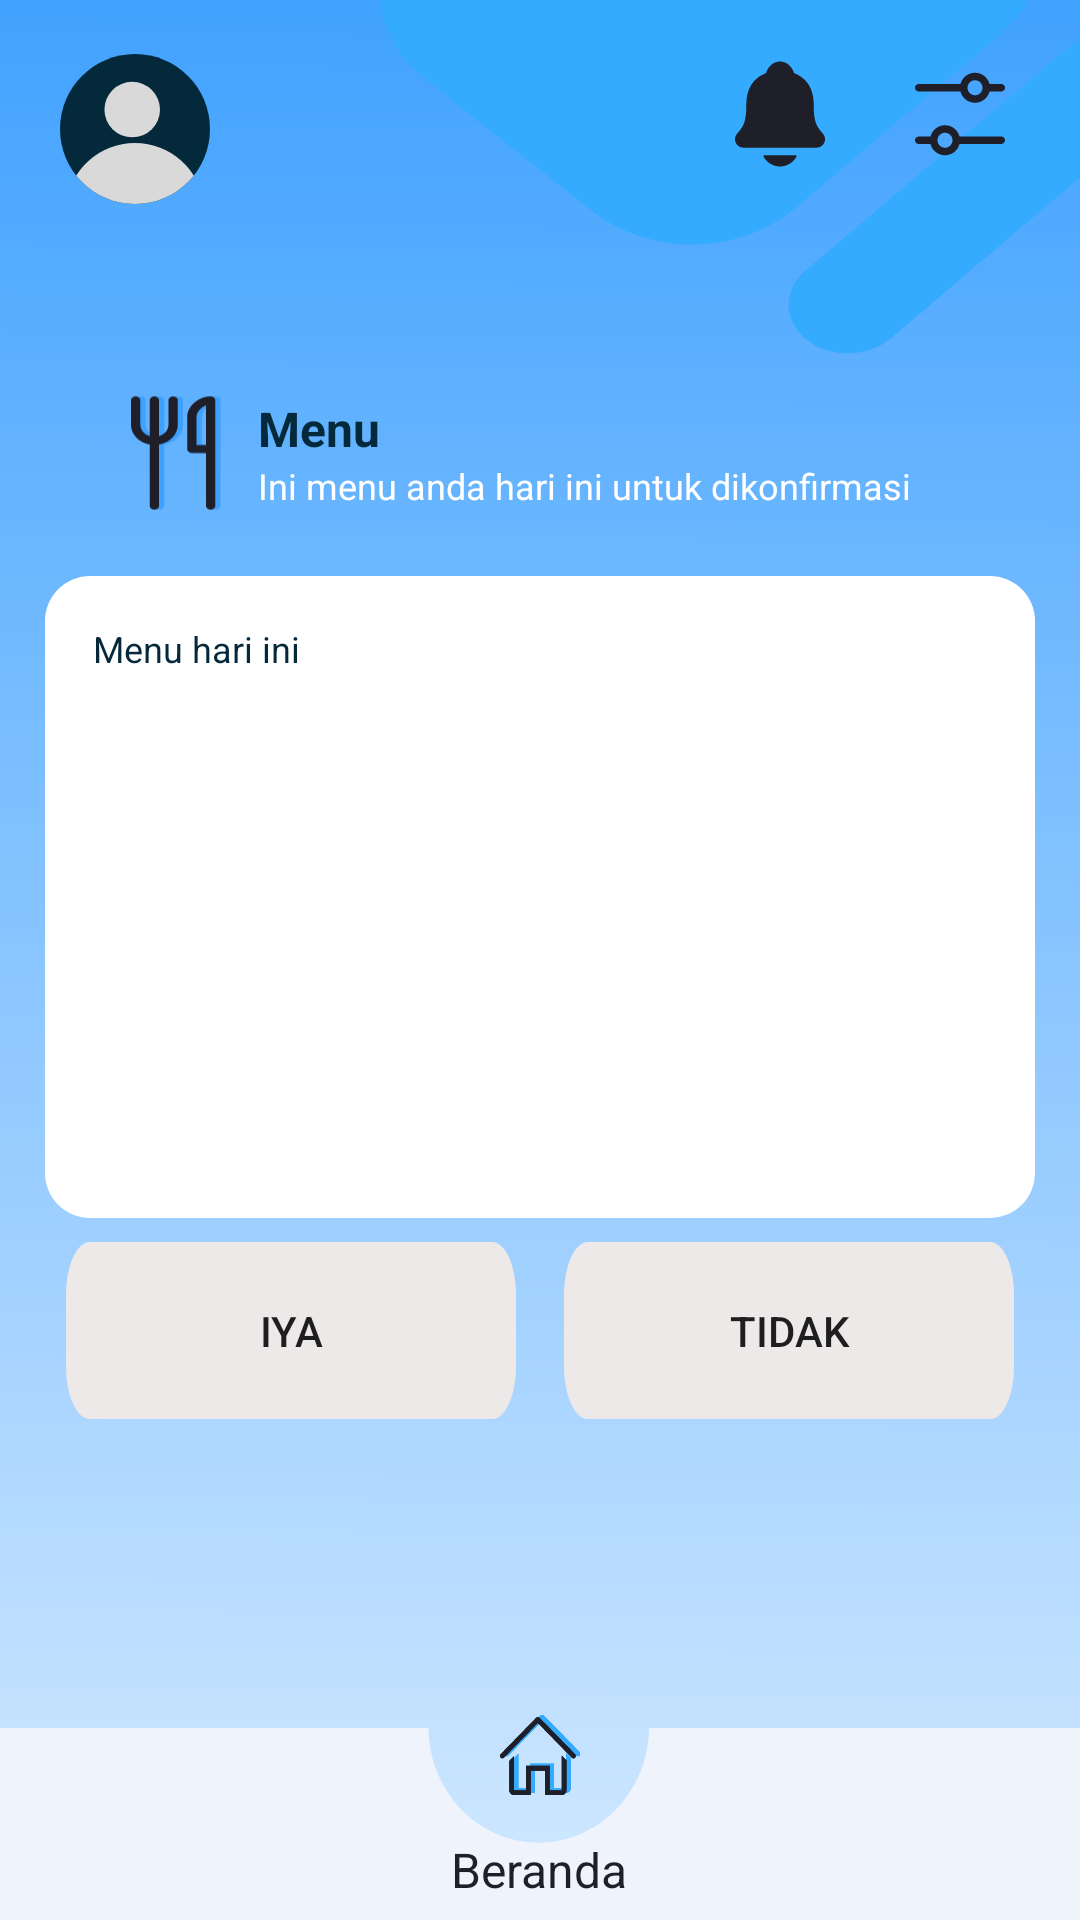

Point at icon controls on the screen. Image size 1080px×1920px, points as (x,y).
gambar account: (135,129)
notifications: (780,114)
settings: (960,114)
